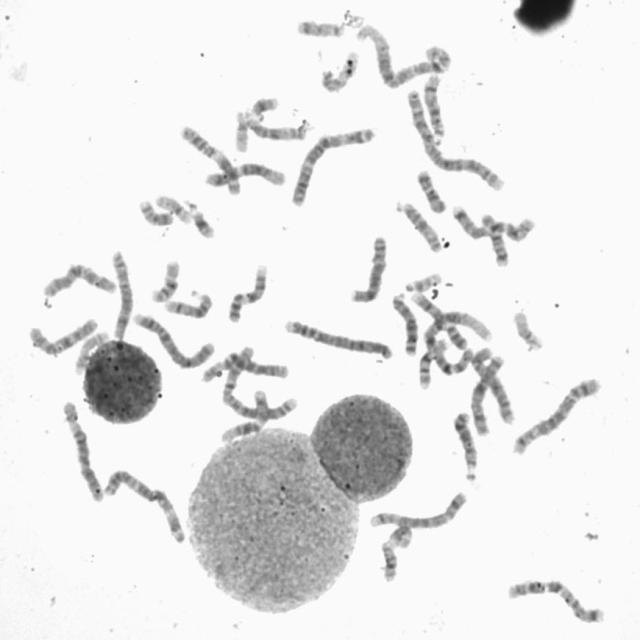A1: (353, 18, 453, 90), (413, 304, 496, 388)
A2: (403, 85, 506, 192), (217, 342, 299, 422)
A3: (286, 122, 378, 208), (99, 463, 188, 545)
B4: (128, 306, 218, 371), (280, 313, 395, 361)
B5: (508, 371, 603, 457), (365, 487, 469, 530)
C10: (24, 313, 100, 358), (38, 258, 119, 298)
C11: (174, 120, 243, 197), (377, 520, 416, 584)
C12: (215, 384, 271, 445), (199, 157, 288, 189)
C6: (57, 395, 106, 504), (200, 349, 291, 386)
C7: (502, 574, 607, 626), (447, 199, 537, 244)
C8: (466, 343, 516, 429), (107, 245, 134, 342)
C9: (408, 287, 472, 351), (223, 259, 269, 324)
D13: (448, 406, 480, 482), (388, 288, 420, 357)
D14: (420, 68, 448, 143), (160, 286, 214, 320)
D15: (396, 196, 444, 254), (241, 110, 309, 142)
E16: (414, 334, 451, 391), (146, 255, 182, 304)
E17: (316, 47, 360, 94), (71, 326, 110, 375)
E18: (412, 165, 449, 214), (479, 210, 510, 268)
F19: (509, 306, 545, 352), (152, 189, 194, 225)
F20: (134, 194, 175, 227), (293, 14, 346, 39)
G21: (185, 200, 216, 240), (246, 92, 282, 120)
G22: (402, 267, 444, 294), (230, 105, 250, 154)
X: (466, 349, 508, 437), (347, 230, 389, 304)
